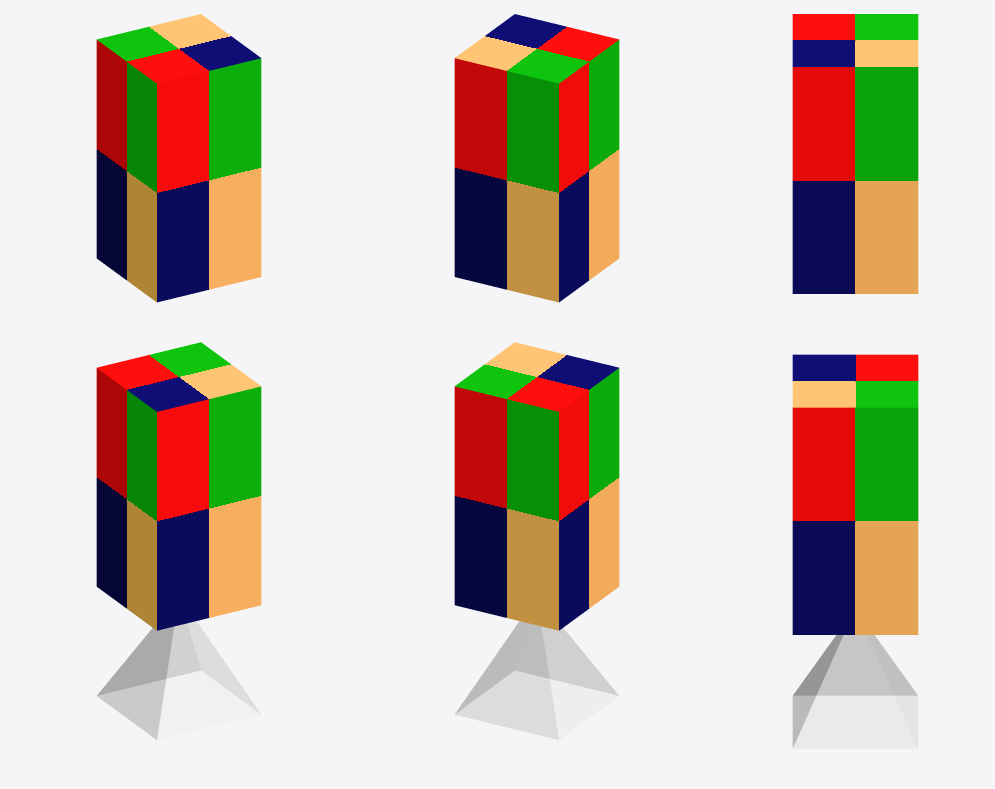
Rendered from robot.glb.
3 renders of one model, left to right at view 1: azimuth 30°, elevation 25°; view 2: azimuth 150°, elevation 25°; view 3: azimuth 270°, elevation 25°, orthographic. The views are drawn at different scales.
Parts seen in each view (by area): view 1: Head, Body, Ground; view 2: Head, Body, Ground; view 3: Body, Head, Ground.
Boxes of the visible parts, x1=… form: Head: x1=96, y1=14, x2=261, y2=302; Body: x1=96, y1=342, x2=261, y2=630; Ground: x1=97, y1=621, x2=260, y2=739; Head: x1=454, y1=14, x2=619, y2=302; Body: x1=454, y1=342, x2=619, y2=630; Ground: x1=455, y1=621, x2=618, y2=739; Body: x1=792, y1=354, x2=918, y2=634; Head: x1=792, y1=14, x2=918, y2=293; Ground: x1=793, y1=635, x2=917, y2=748.
Size of the model in its own units: 2 by 6 by 2.
Materials: 2 (1 with a texture image).
